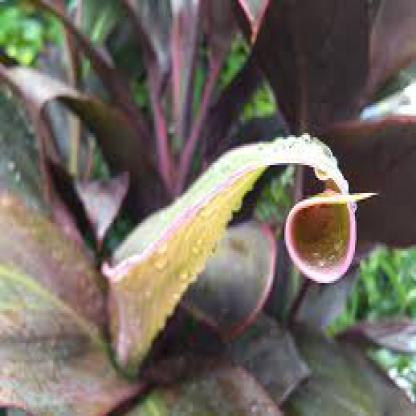ANGGREK: (36, 25, 388, 409)
